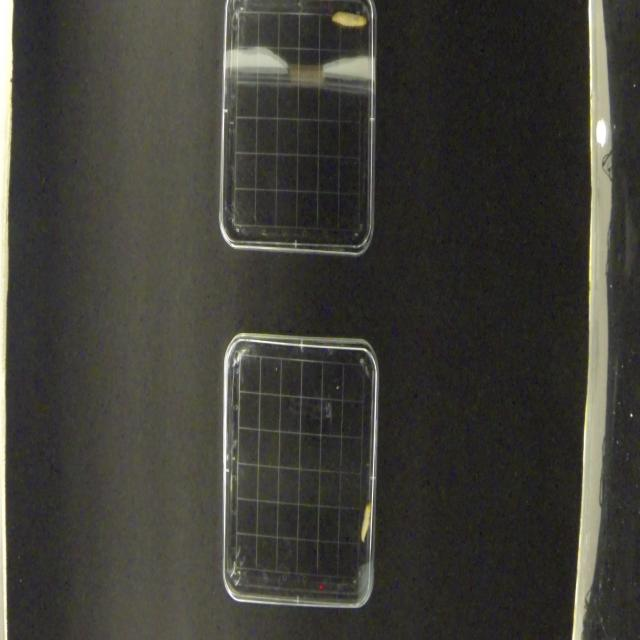larva: (357, 496, 373, 544), (332, 10, 368, 30)
